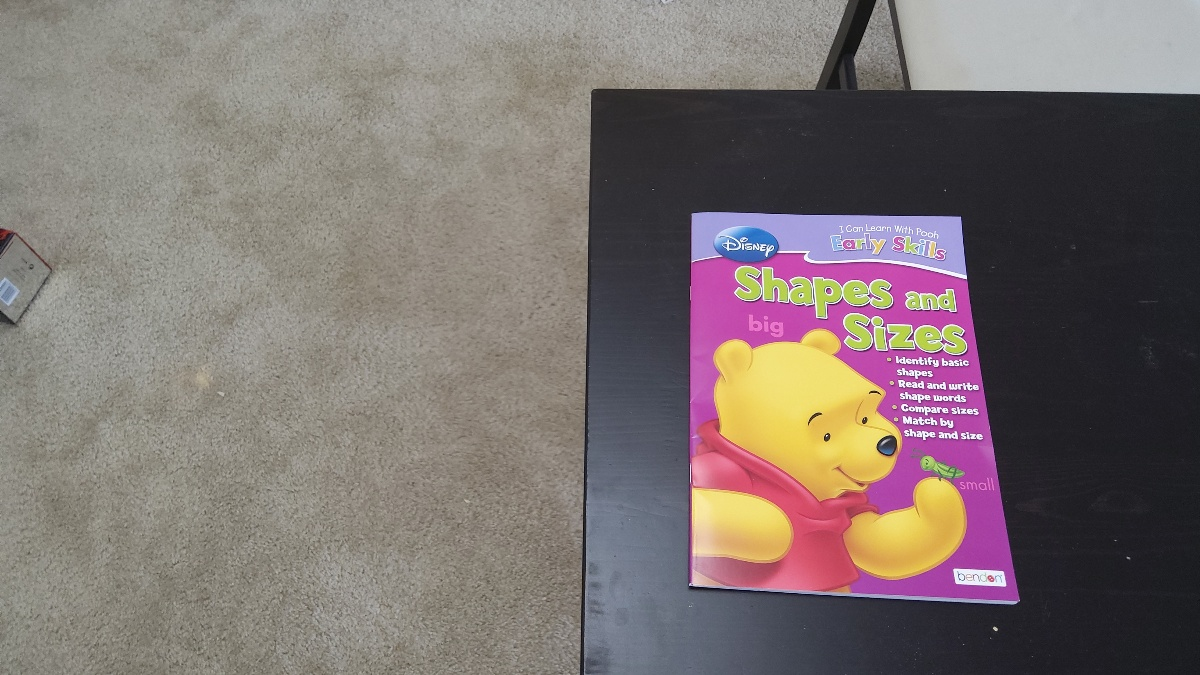book: (665, 205, 1025, 616)
